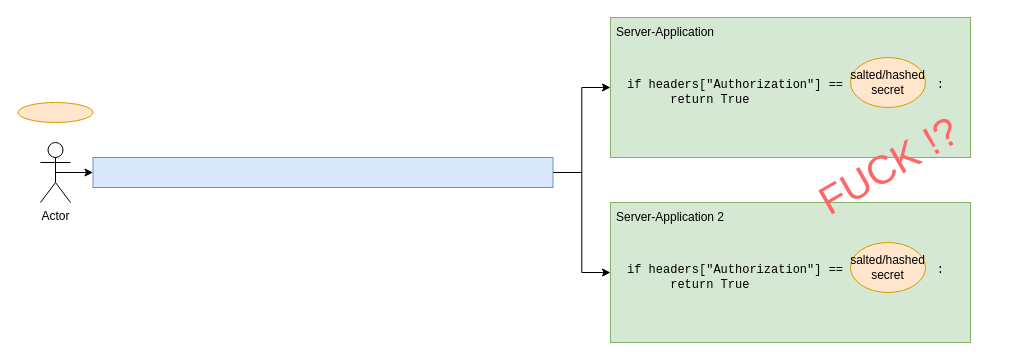
Image size: 1022x360. Some labels were removed from this diagram. The shapes that lost their labels are listed below. From the top down, each one's centre as x and y in pixels, then its label:
At point (55, 112): "secret".
At point (322, 172): "TLS / HTTPS".
